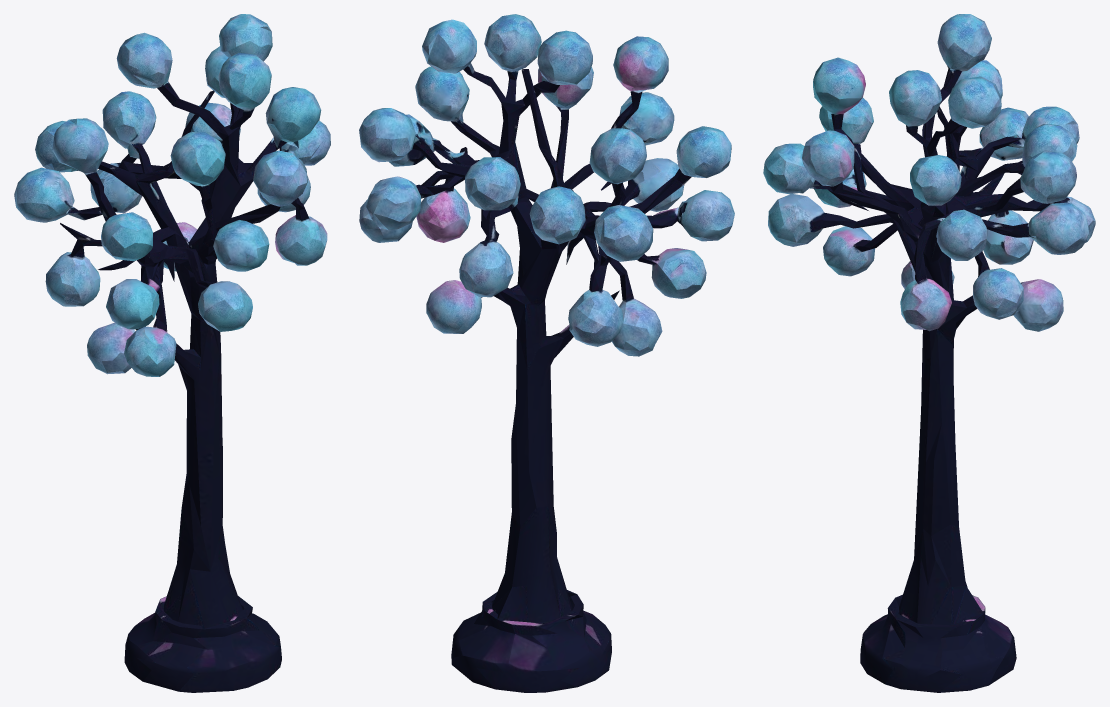
The model's file is neon-tree.glb.
3 renders of one model, left to right at view 1: azimuth 30°, elevation 25°; view 2: azimuth 150°, elevation 25°; view 3: azimuth 270°, elevation 25°, orthographic. The views are drawn at different scales.
Bounding box in the file's own units: 0.9081 × 1.9 × 0.9201.
Materials: 1 (1 with a texture image).
